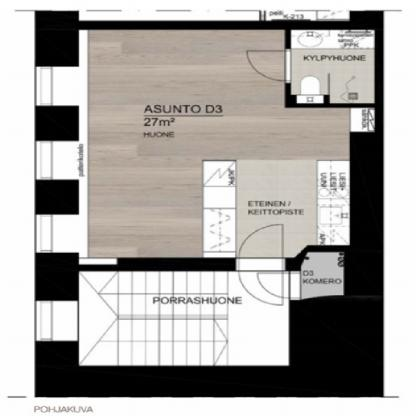door: (238, 225, 284, 309), (247, 50, 295, 83), (256, 270, 301, 300)
window: (32, 140, 86, 181), (35, 66, 87, 108), (35, 214, 90, 253), (36, 298, 77, 341)
zone: (89, 27, 357, 259), (78, 272, 288, 368), (290, 28, 373, 101), (296, 251, 348, 307)
